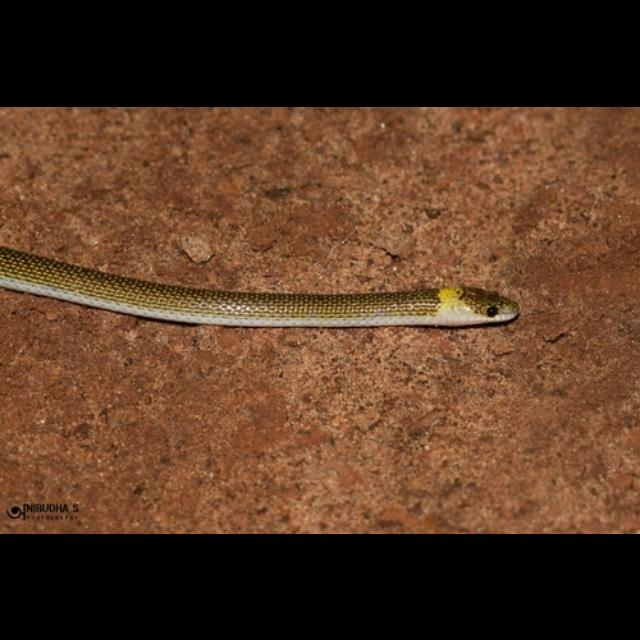snake: (0, 246, 522, 328)
